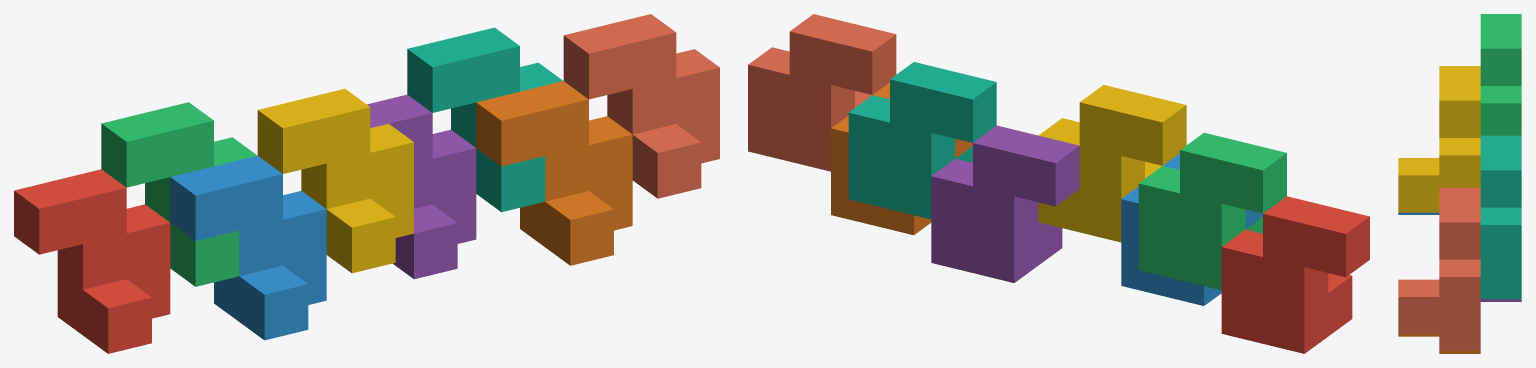
Rendered from tiling.obj.
3 views of the same model, side by side, from view 1: azimuth 30°, elevation 25°; view 2: azimuth 150°, elevation 25°; view 3: azimuth 270°, elevation 25° (orthographic). The views are drawn at different scales.
Visible parts, largest first — view 1: copy_1_domain_1, copy_1_domain_2, copy_1_domain_8, copy_1_domain_4, copy_1_domain_6, copy_1_domain_3, copy_1_domain_7, copy_1_domain_5; view 2: copy_1_domain_1, copy_1_domain_5, copy_1_domain_3, copy_1_domain_7, copy_1_domain_8, copy_1_domain_4, copy_1_domain_6, copy_1_domain_2; view 3: copy_1_domain_8, copy_1_domain_4, copy_1_domain_7, copy_1_domain_3, copy_1_domain_6, copy_1_domain_5, copy_1_domain_2.
Part boxes in pixels (x1,y1,x2,y2): copy_1_domain_1: (14, 169, 170, 353); copy_1_domain_2: (170, 155, 326, 340); copy_1_domain_8: (563, 14, 719, 198); copy_1_domain_4: (257, 88, 413, 273); copy_1_domain_6: (476, 81, 632, 265); copy_1_domain_3: (101, 102, 257, 286); copy_1_domain_7: (407, 27, 562, 212); copy_1_domain_5: (367, 94, 476, 279); copy_1_domain_1: (1221, 196, 1369, 353); copy_1_domain_5: (931, 125, 1079, 282); copy_1_domain_3: (1138, 132, 1286, 290); copy_1_domain_7: (848, 62, 996, 219); copy_1_domain_8: (748, 14, 896, 171); copy_1_domain_4: (1038, 85, 1186, 242); copy_1_domain_6: (831, 82, 972, 235); copy_1_domain_2: (1121, 153, 1262, 305); copy_1_domain_8: (1398, 187, 1480, 351); copy_1_domain_4: (1398, 66, 1480, 212); copy_1_domain_7: (1480, 135, 1521, 299); copy_1_domain_3: (1480, 14, 1521, 135); copy_1_domain_6: (1398, 334, 1480, 353); copy_1_domain_5: (1480, 299, 1521, 301); copy_1_domain_2: (1398, 212, 1439, 214).
Bounding box in the file's own units: 15 × 4 × 3.
